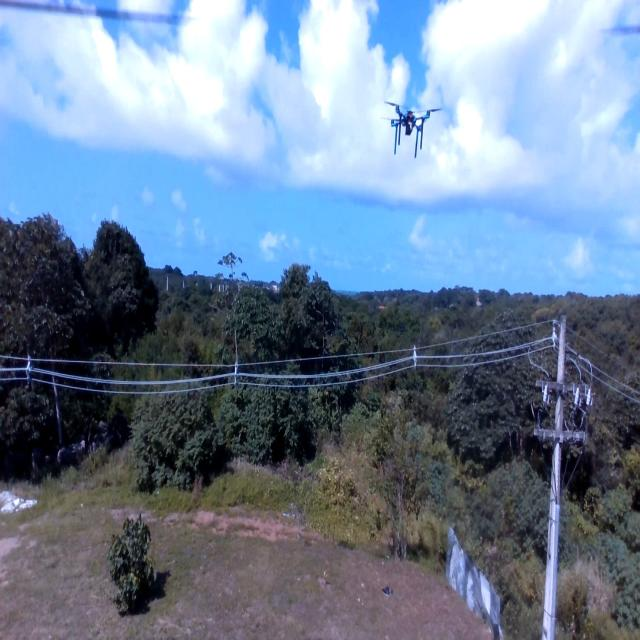-uav-: (372, 87, 447, 168)
